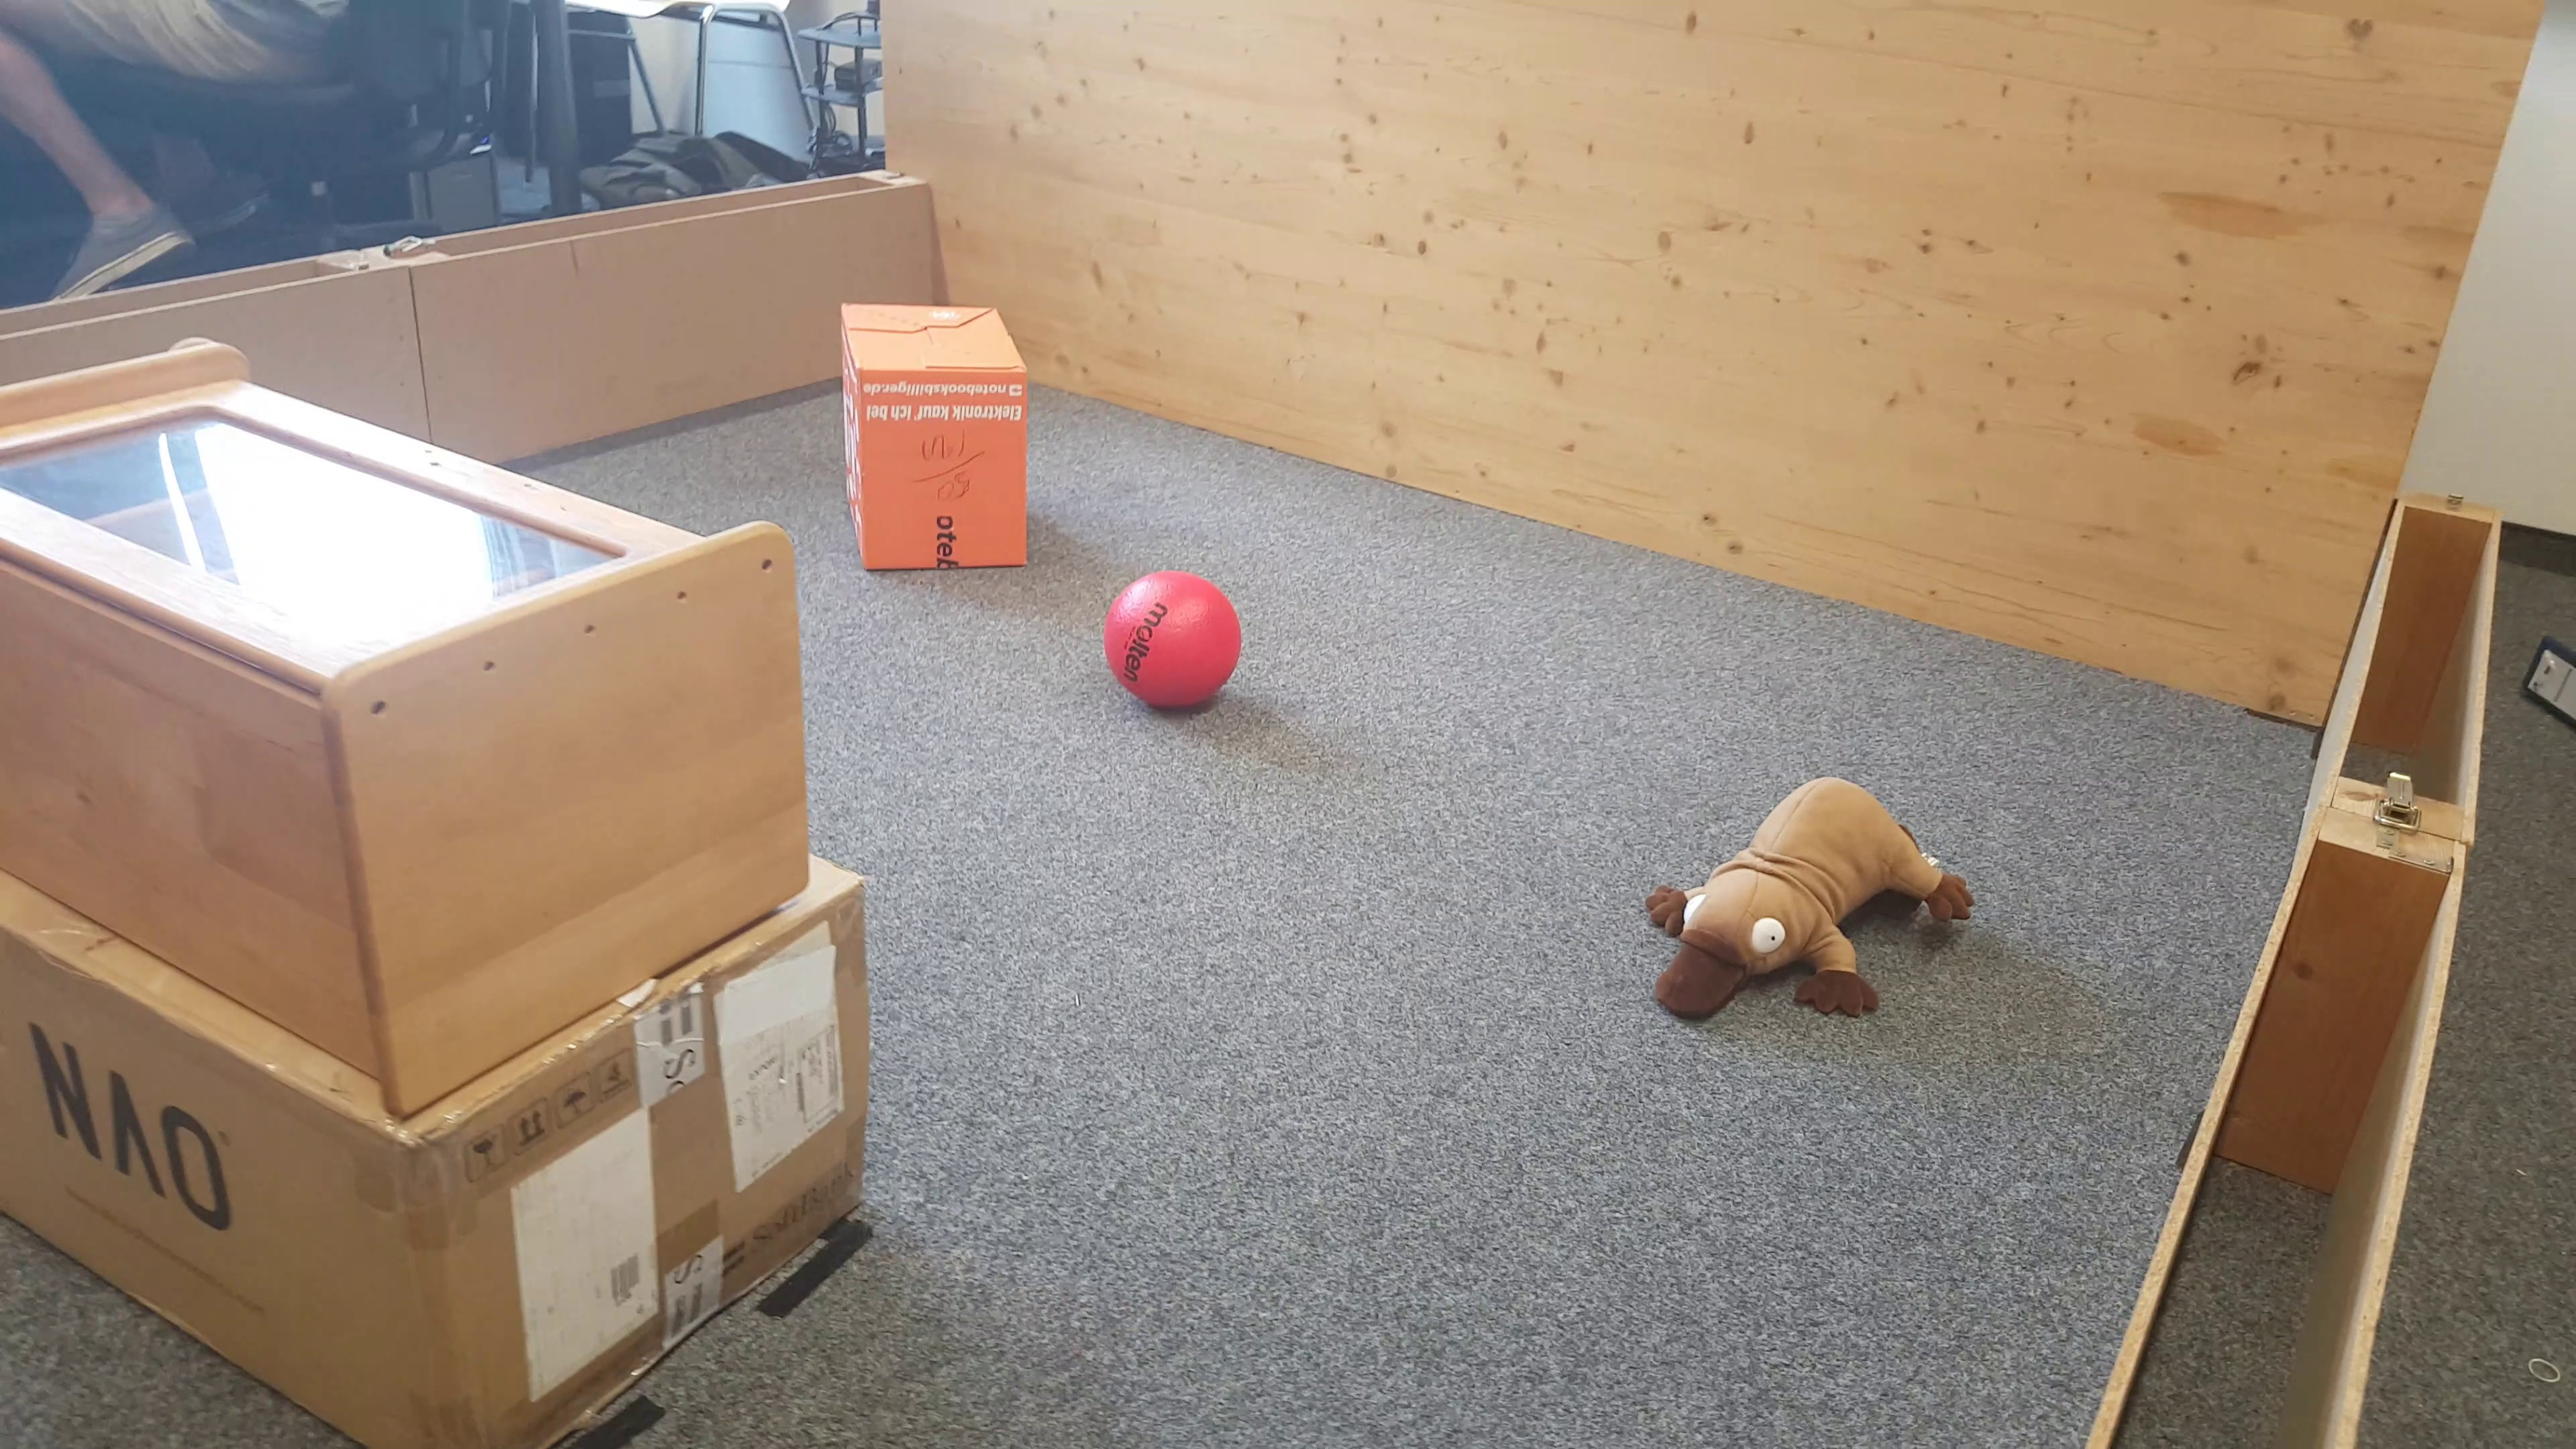grasp: (1649, 775, 1971, 1039)
kick: (1104, 570, 1244, 717)
push: (842, 299, 1039, 575)
